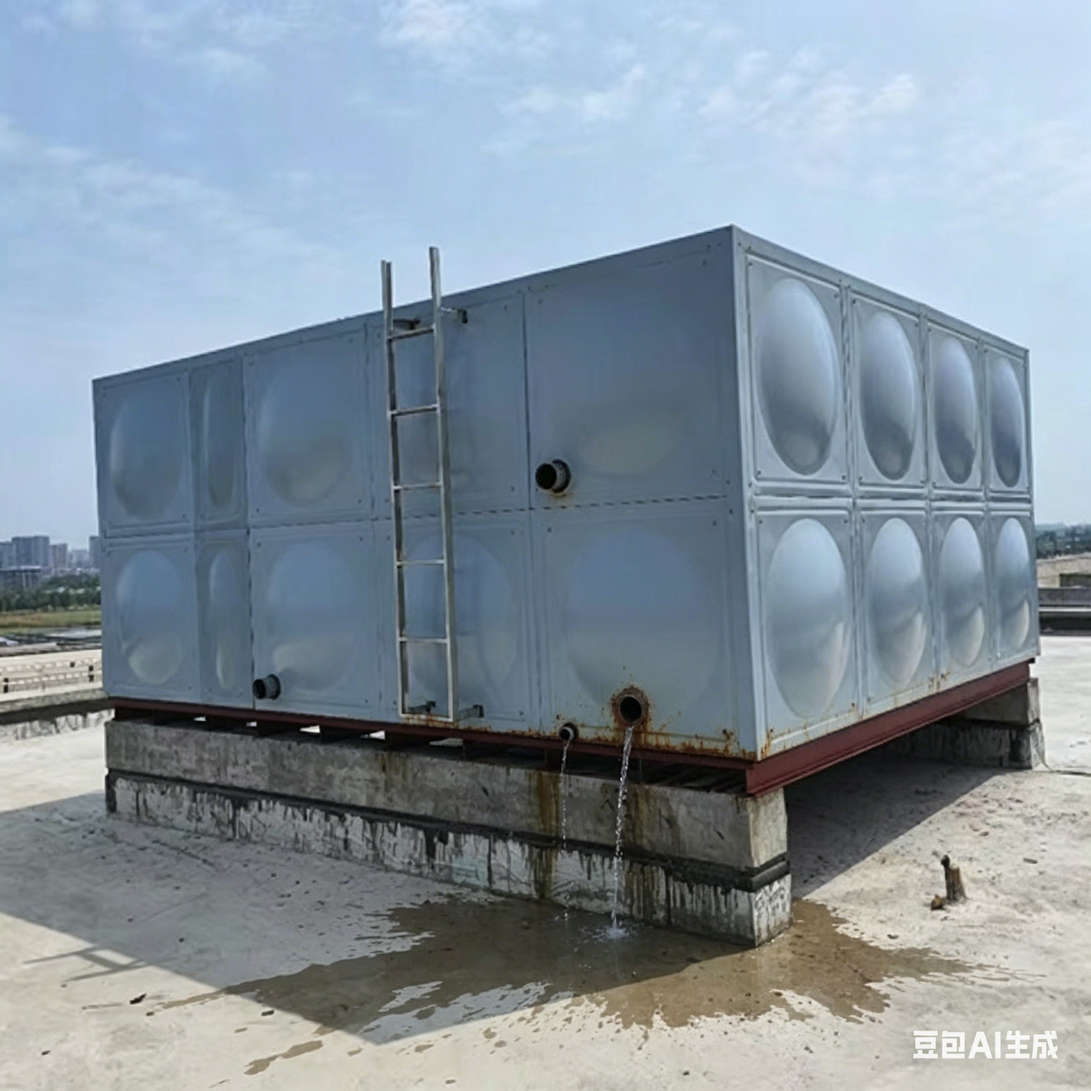Leakage: (674, 935, 959, 1025), (519, 712, 582, 987), (596, 704, 652, 1013), (385, 904, 519, 983), (237, 973, 387, 1033)
